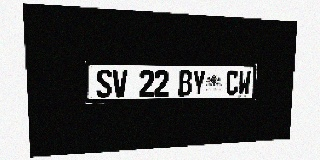2: (140, 69, 154, 97), (155, 70, 169, 96)
B: (178, 70, 192, 96)
C: (226, 70, 239, 95)
S: (96, 69, 112, 98)
V: (112, 69, 128, 97)
W: (238, 70, 251, 95)
Y: (192, 70, 206, 96)
